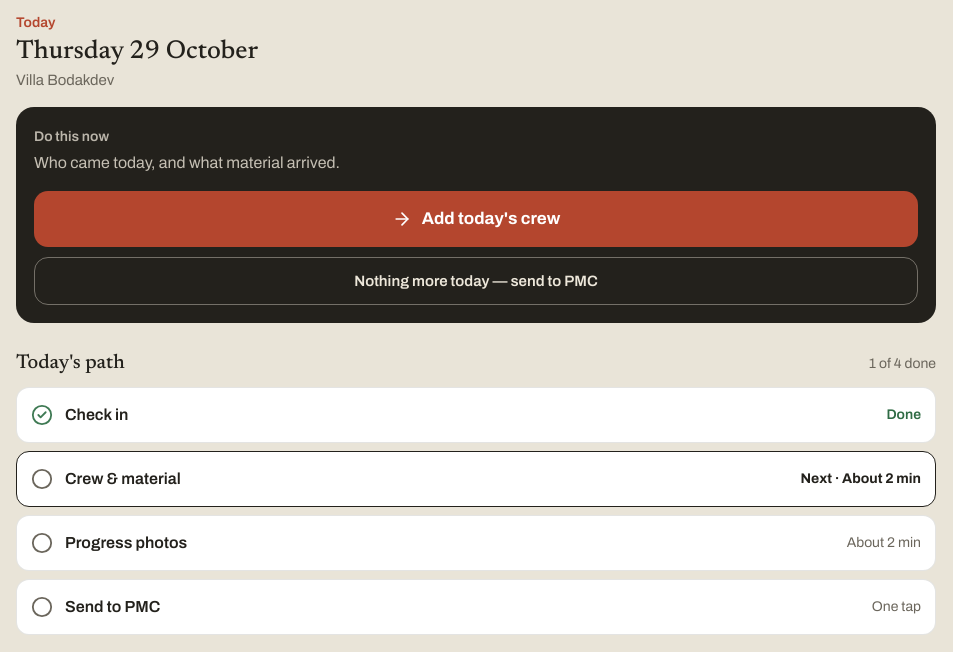
Test: U1 — the crew step, one trade at a time › asks about one trade per screen, with its position and the trades still to come
Click the button with test id "today-action" at (476, 219), box [34,191,918,247]
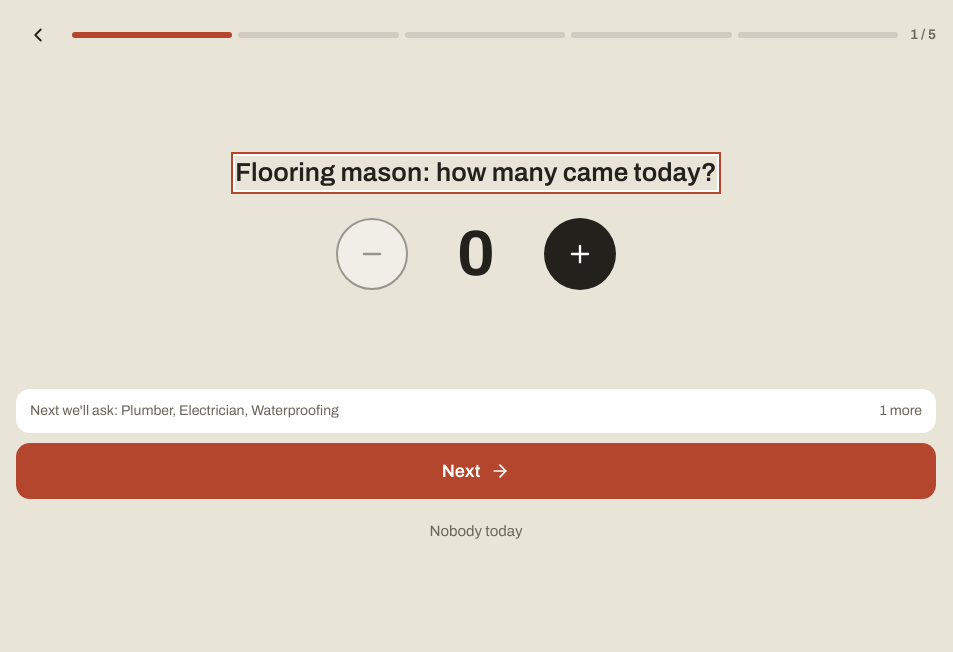
expect the element with test id "crew-ahead" shows "1 more": met, box [880,403,922,418]
